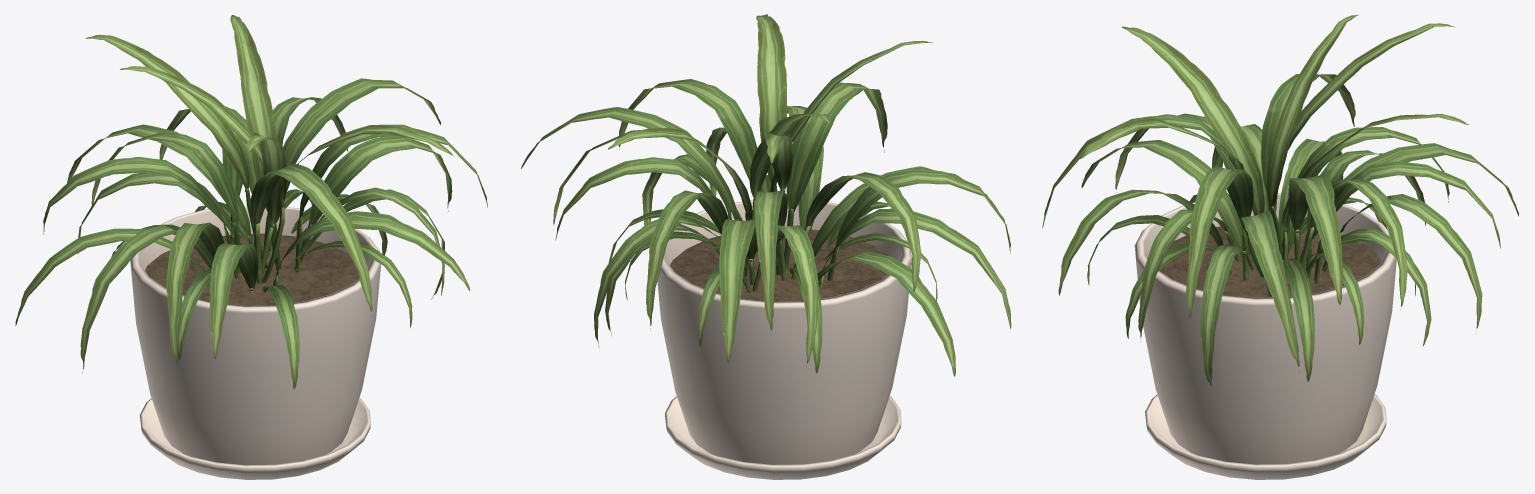
Rendered from SpiderPlant.fbx.
3 views of the same model, side by side, from view 1: azimuth 30°, elevation 25°; view 2: azimuth 150°, elevation 25°; view 3: azimuth 270°, elevation 25° (orthographic). The views are drawn at different scales.
Parts seen in each view (by area): view 1: SpiderPlant; view 2: SpiderPlant; view 3: SpiderPlant.
Part boxes in pixels (box(x1,y1,x2,y2)): SpiderPlant: box(15, 15, 487, 479); SpiderPlant: box(521, 14, 1011, 479); SpiderPlant: box(1042, 14, 1518, 479).
Size of the model in its own units: 33.44 by 27.13 by 31.08.
